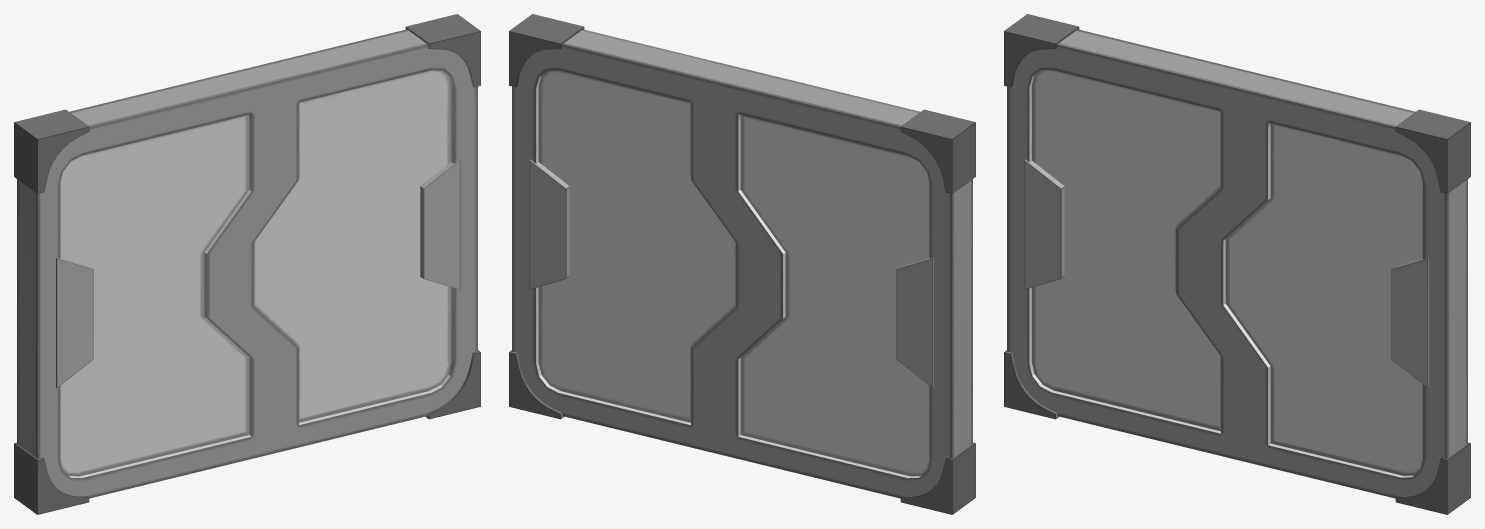
File: Door_Up.fbx
The picture shows the model from 3 angles, left to right: view 1: azimuth 30°, elevation 25°; view 2: azimuth 150°, elevation 25°; view 3: azimuth 330°, elevation 25°; orthographic projection.
Parts seen in each view (by area): view 1: polySurface5; view 2: polySurface5; view 3: polySurface5.
Boxes of the visible parts, x1=… form: polySurface5: x1=14, y1=14, x2=480, y2=514; polySurface5: x1=509, y1=14, x2=975, y2=514; polySurface5: x1=1004, y1=14, x2=1470, y2=514.
Bounding box in the file's own units: 21.55 × 17.44 × 1.98.
